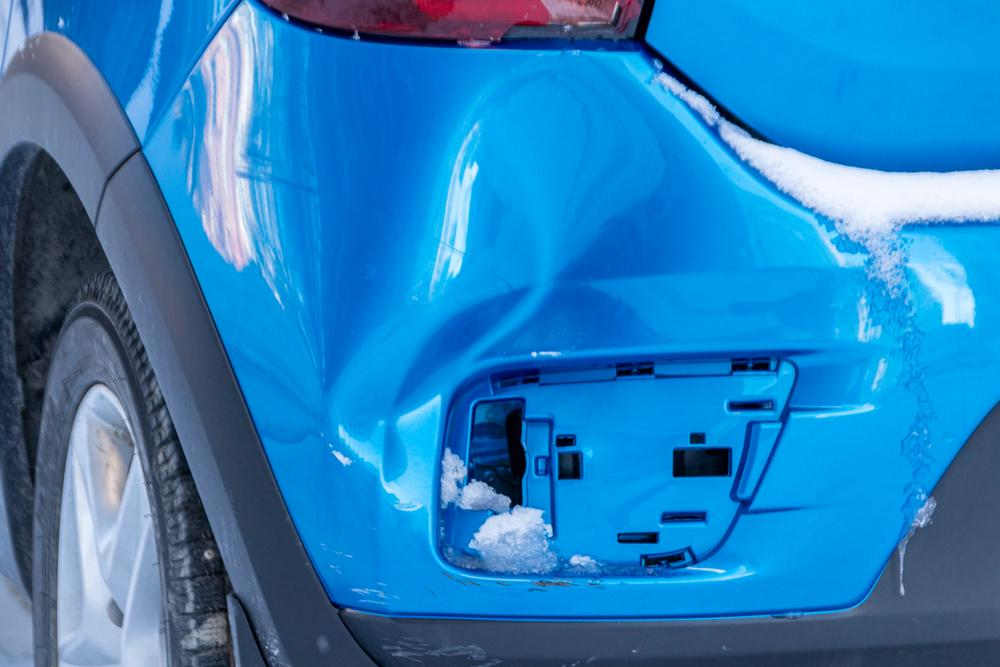dent: (330, 63, 722, 507)
lamp broken: (260, 0, 651, 48)
scratch: (323, 546, 611, 609), (387, 632, 510, 667)
